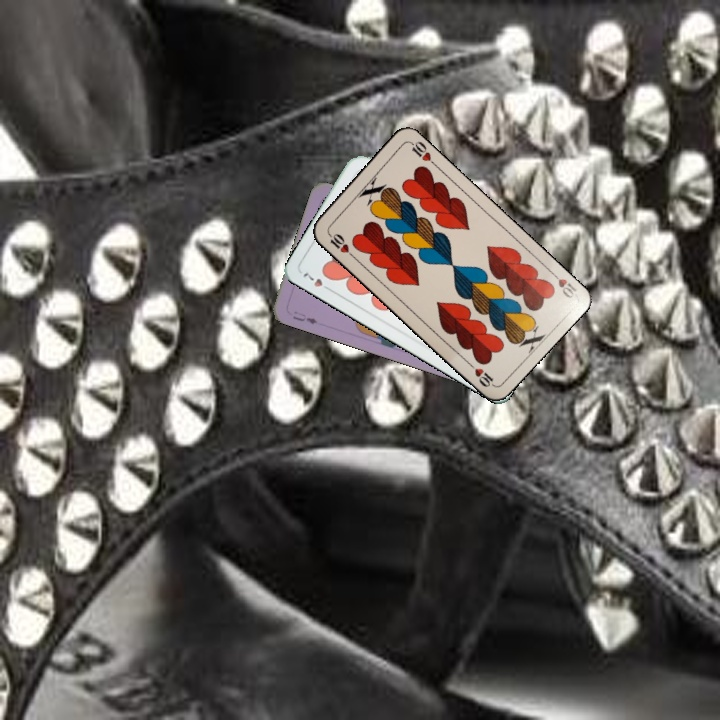EU: (289, 307, 320, 327)
H10: (546, 266, 579, 301), (323, 228, 356, 260)
H7: (299, 268, 335, 294)
